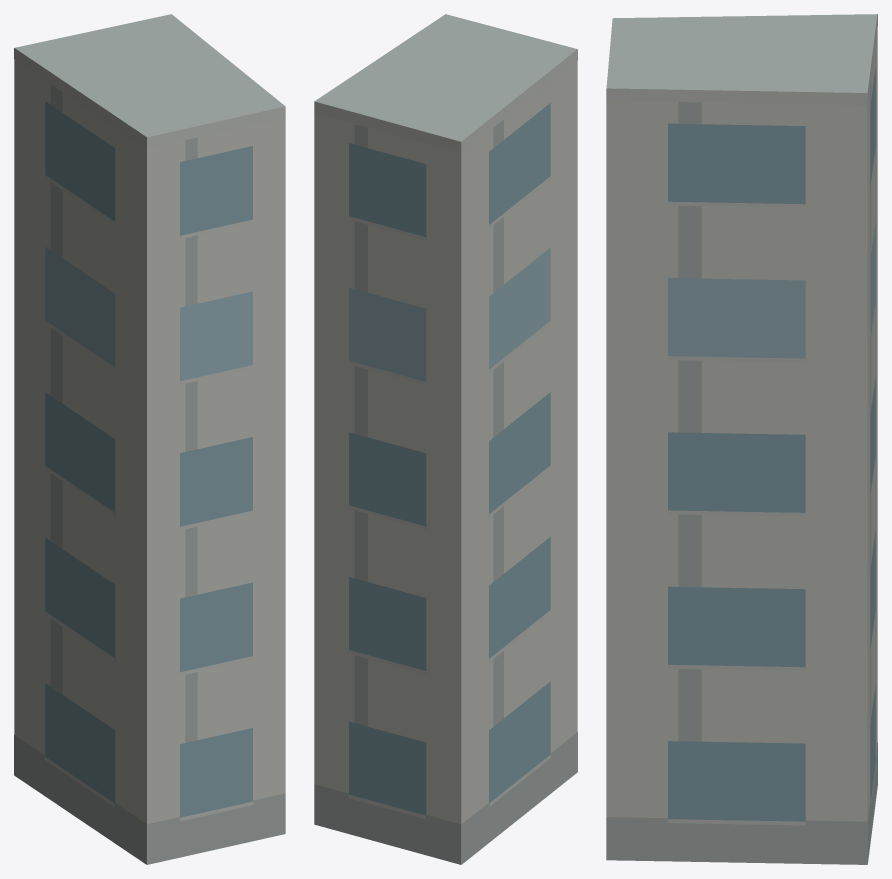
Rendered from survey-upis-32783506.glb.
3 renders of one model, left to right at view 1: azimuth 30°, elevation 25°; view 2: azimuth 150°, elevation 25°; view 3: azimuth 270°, elevation 25°, orthographic. The views are drawn at different scales.
Visible parts, largest first — view 1: survey-upis-32783506.tmp; view 2: survey-upis-32783506.tmp; view 3: survey-upis-32783506.tmp.
Part boxes in pixels (box(x1,y1,x2,y2)): survey-upis-32783506.tmp: box(14, 14, 285, 864); survey-upis-32783506.tmp: box(314, 14, 577, 864); survey-upis-32783506.tmp: box(606, 14, 877, 864).
Size of the model in its own units: 3.36 by 15.25 by 4.87.
